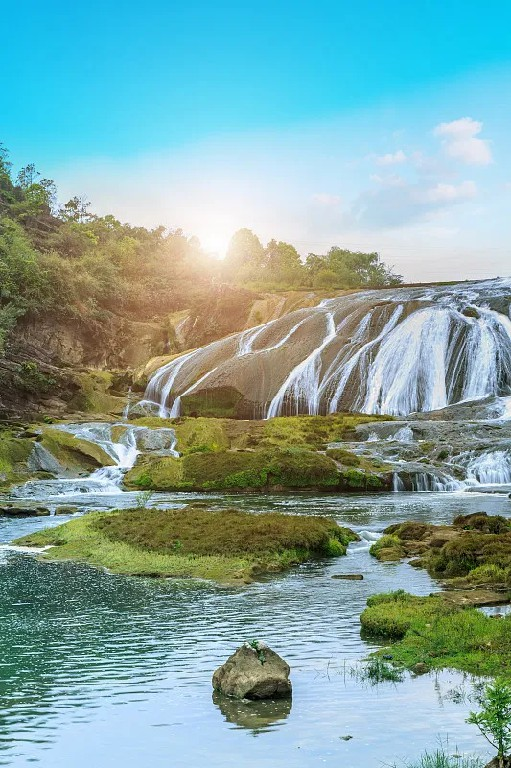Huangguoshu: (141, 278, 511, 423)
